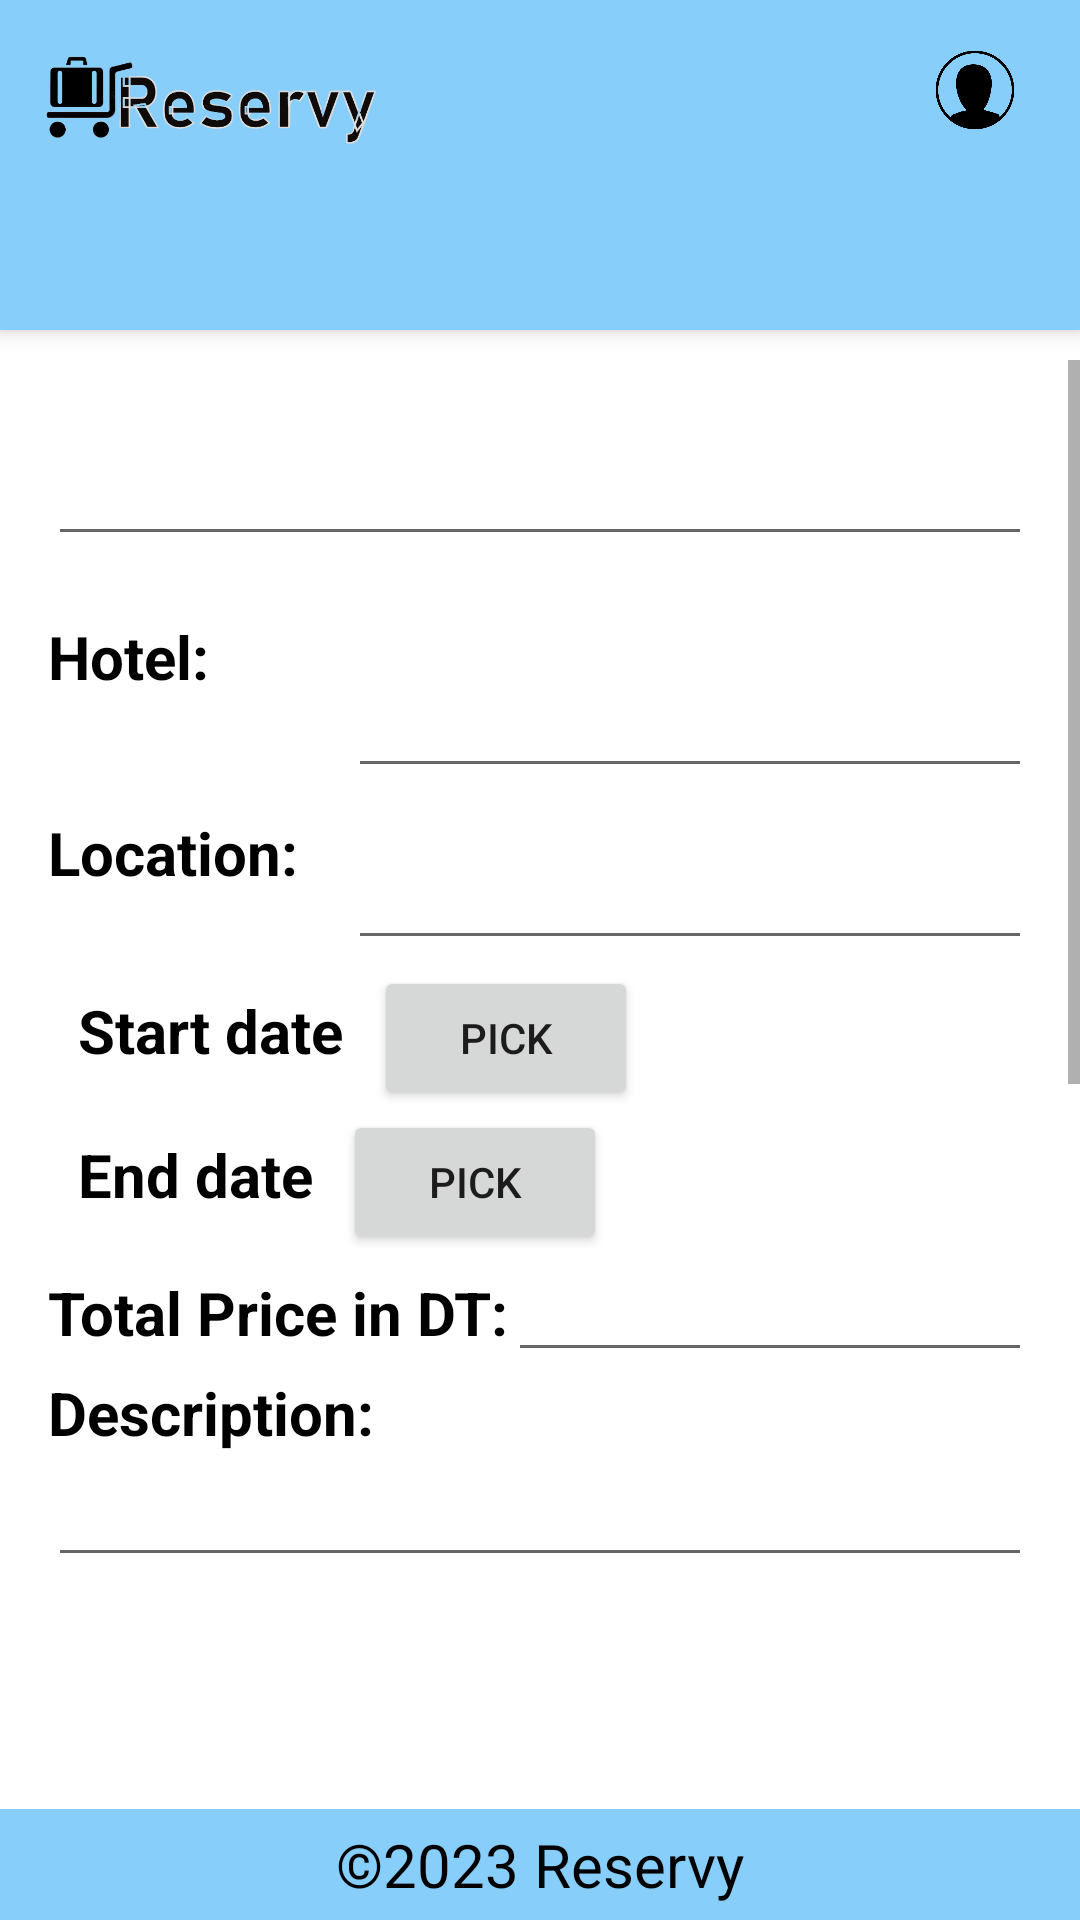

Named icons in this screenshot (1080px×1920px) and their bounding boxes, [x1=x1, y1=y1, x2=x2, y2=y2]:
person: [x1=936, y1=51, x2=1014, y2=129]
